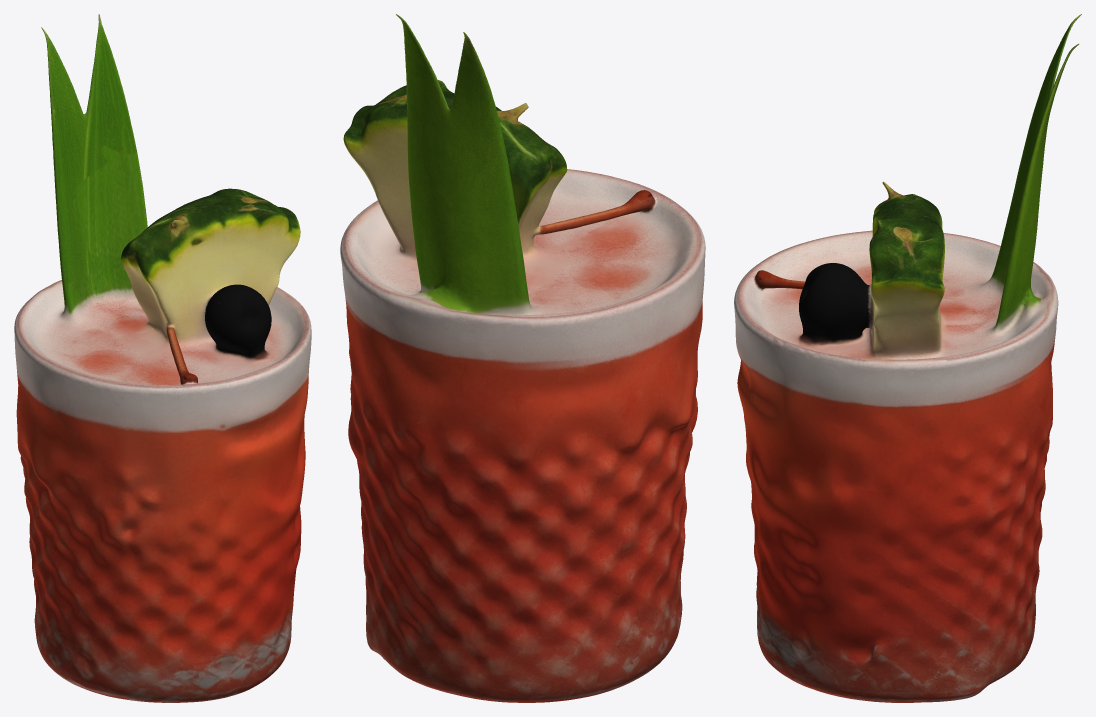
File: Meshy_AI_Tropical_Crimson_Sip_1118161900_texture.glb
3 renders of one model, left to right at view 1: azimuth 30°, elevation 25°; view 2: azimuth 150°, elevation 25°; view 3: azimuth 270°, elevation 25°, orthographic. The views are drawn at different scales.
Bounding box in the file's own units: 0.9016 × 1.9 × 0.9669.
1 material, 1 textured.
